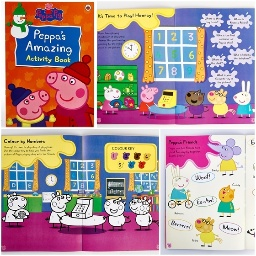Peppa: (43, 55, 95, 126), (135, 84, 161, 116)
